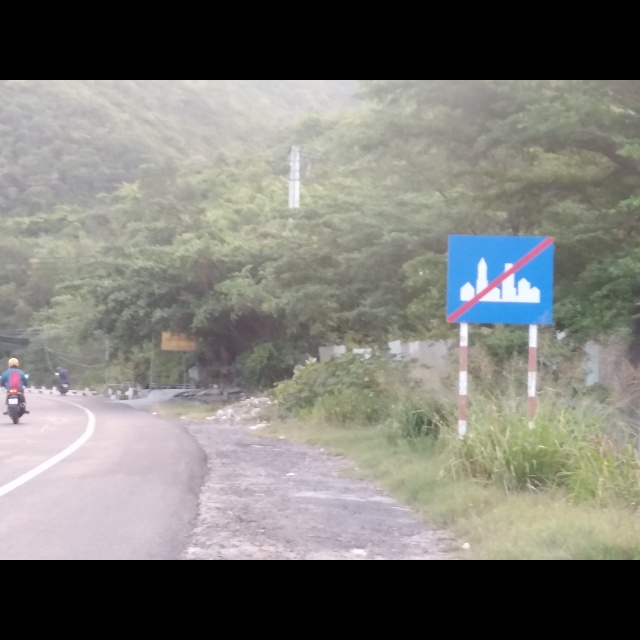Hết khu đông dân cư: (444, 231, 554, 326)
